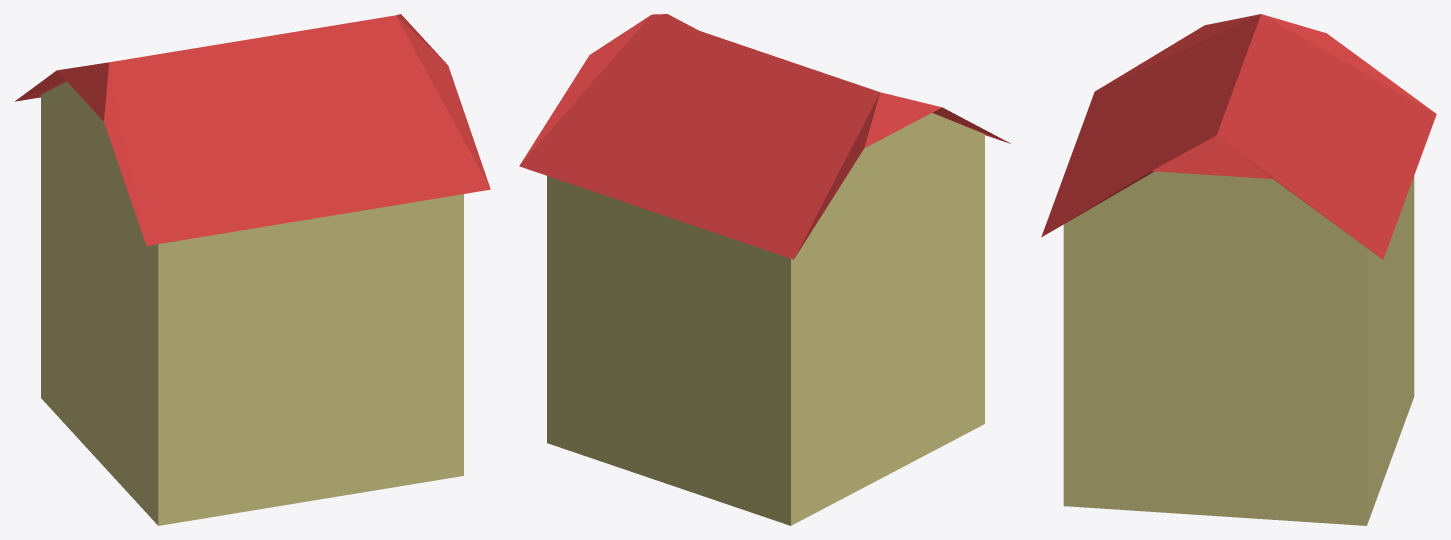
3 views of the same model, side by side, from view 1: azimuth 30°, elevation 25°; view 2: azimuth 150°, elevation 25°; view 3: azimuth 270°, elevation 25° (orthographic). The views are drawn at different scales.
Parts seen in each view (by area): view 1: group_5, group_3, group_4; view 2: group_5, group_3, group_4; view 3: group_5, group_3, group_4.
Boxes of the visible parts, x1,y1,x2,y2 form: group_5: [41, 81, 463, 525]; group_3: [15, 14, 489, 245]; group_4: [15, 32, 490, 243]; group_5: [547, 113, 984, 525]; group_3: [519, 14, 1010, 259]; group_4: [657, 14, 1009, 258]; group_5: [1063, 171, 1414, 525]; group_3: [1041, 14, 1436, 259]; group_4: [1041, 20, 1435, 236].
Size of the model in its own units: 15.21 by 15.11 by 15.87.
